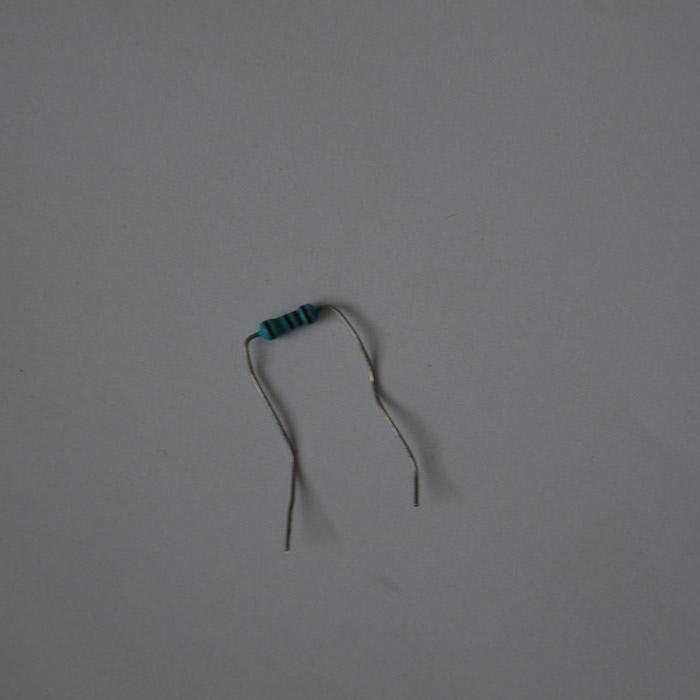resistor: (250, 302, 324, 341)
